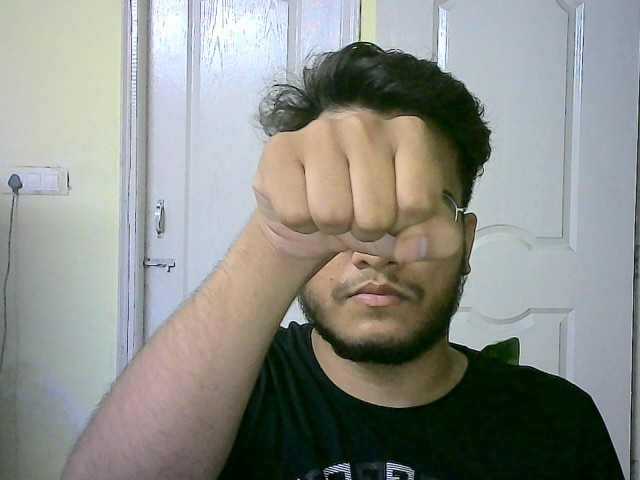Yes: (235, 110, 470, 273)
